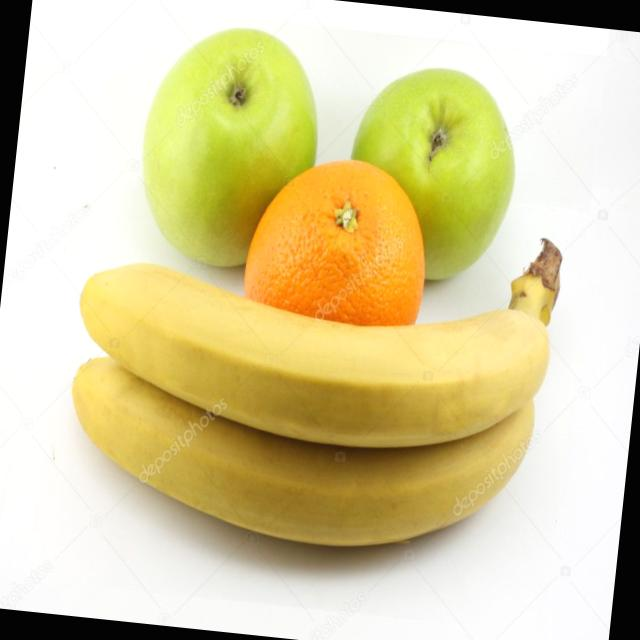banana: (48, 349, 590, 577), (54, 250, 584, 467)
orange: (226, 142, 444, 401)
